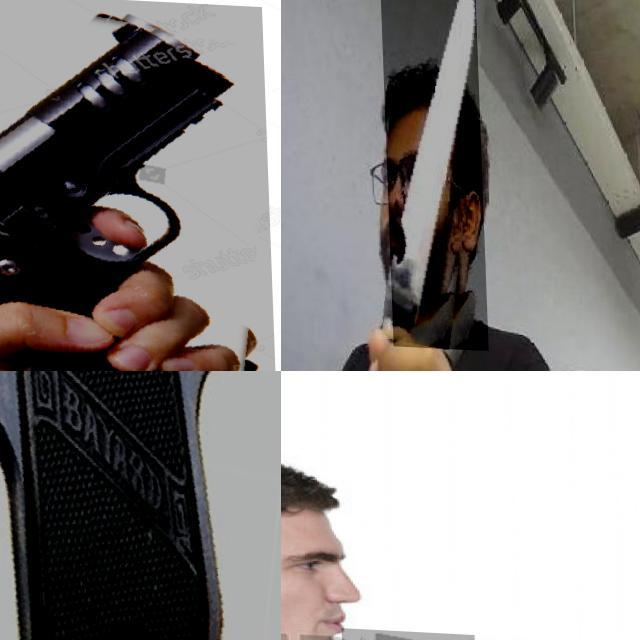-: (378, 0, 484, 348)
gun-knife-thesis - v11 Yolov5 augmented: (0, 0, 274, 371), (0, 371, 281, 640)
